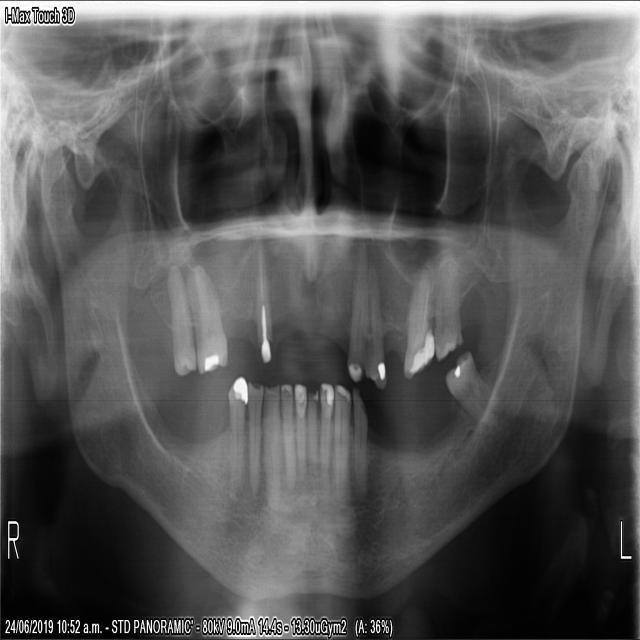LCD: (333, 383, 351, 502)
LID: (320, 382, 333, 485), (308, 385, 318, 479)
LMD: (442, 344, 490, 427)
LMU: (402, 265, 433, 380), (433, 257, 465, 364)
LPMD: (351, 393, 367, 499)
LPMU: (363, 258, 387, 389), (348, 240, 367, 379)
RCD: (264, 379, 282, 507)
RID: (281, 384, 301, 495), (292, 378, 308, 492)
RMU: (188, 258, 230, 378), (159, 255, 198, 379)
RPMD: (219, 369, 246, 493), (246, 384, 264, 497)
RPMU: (254, 254, 274, 367)
